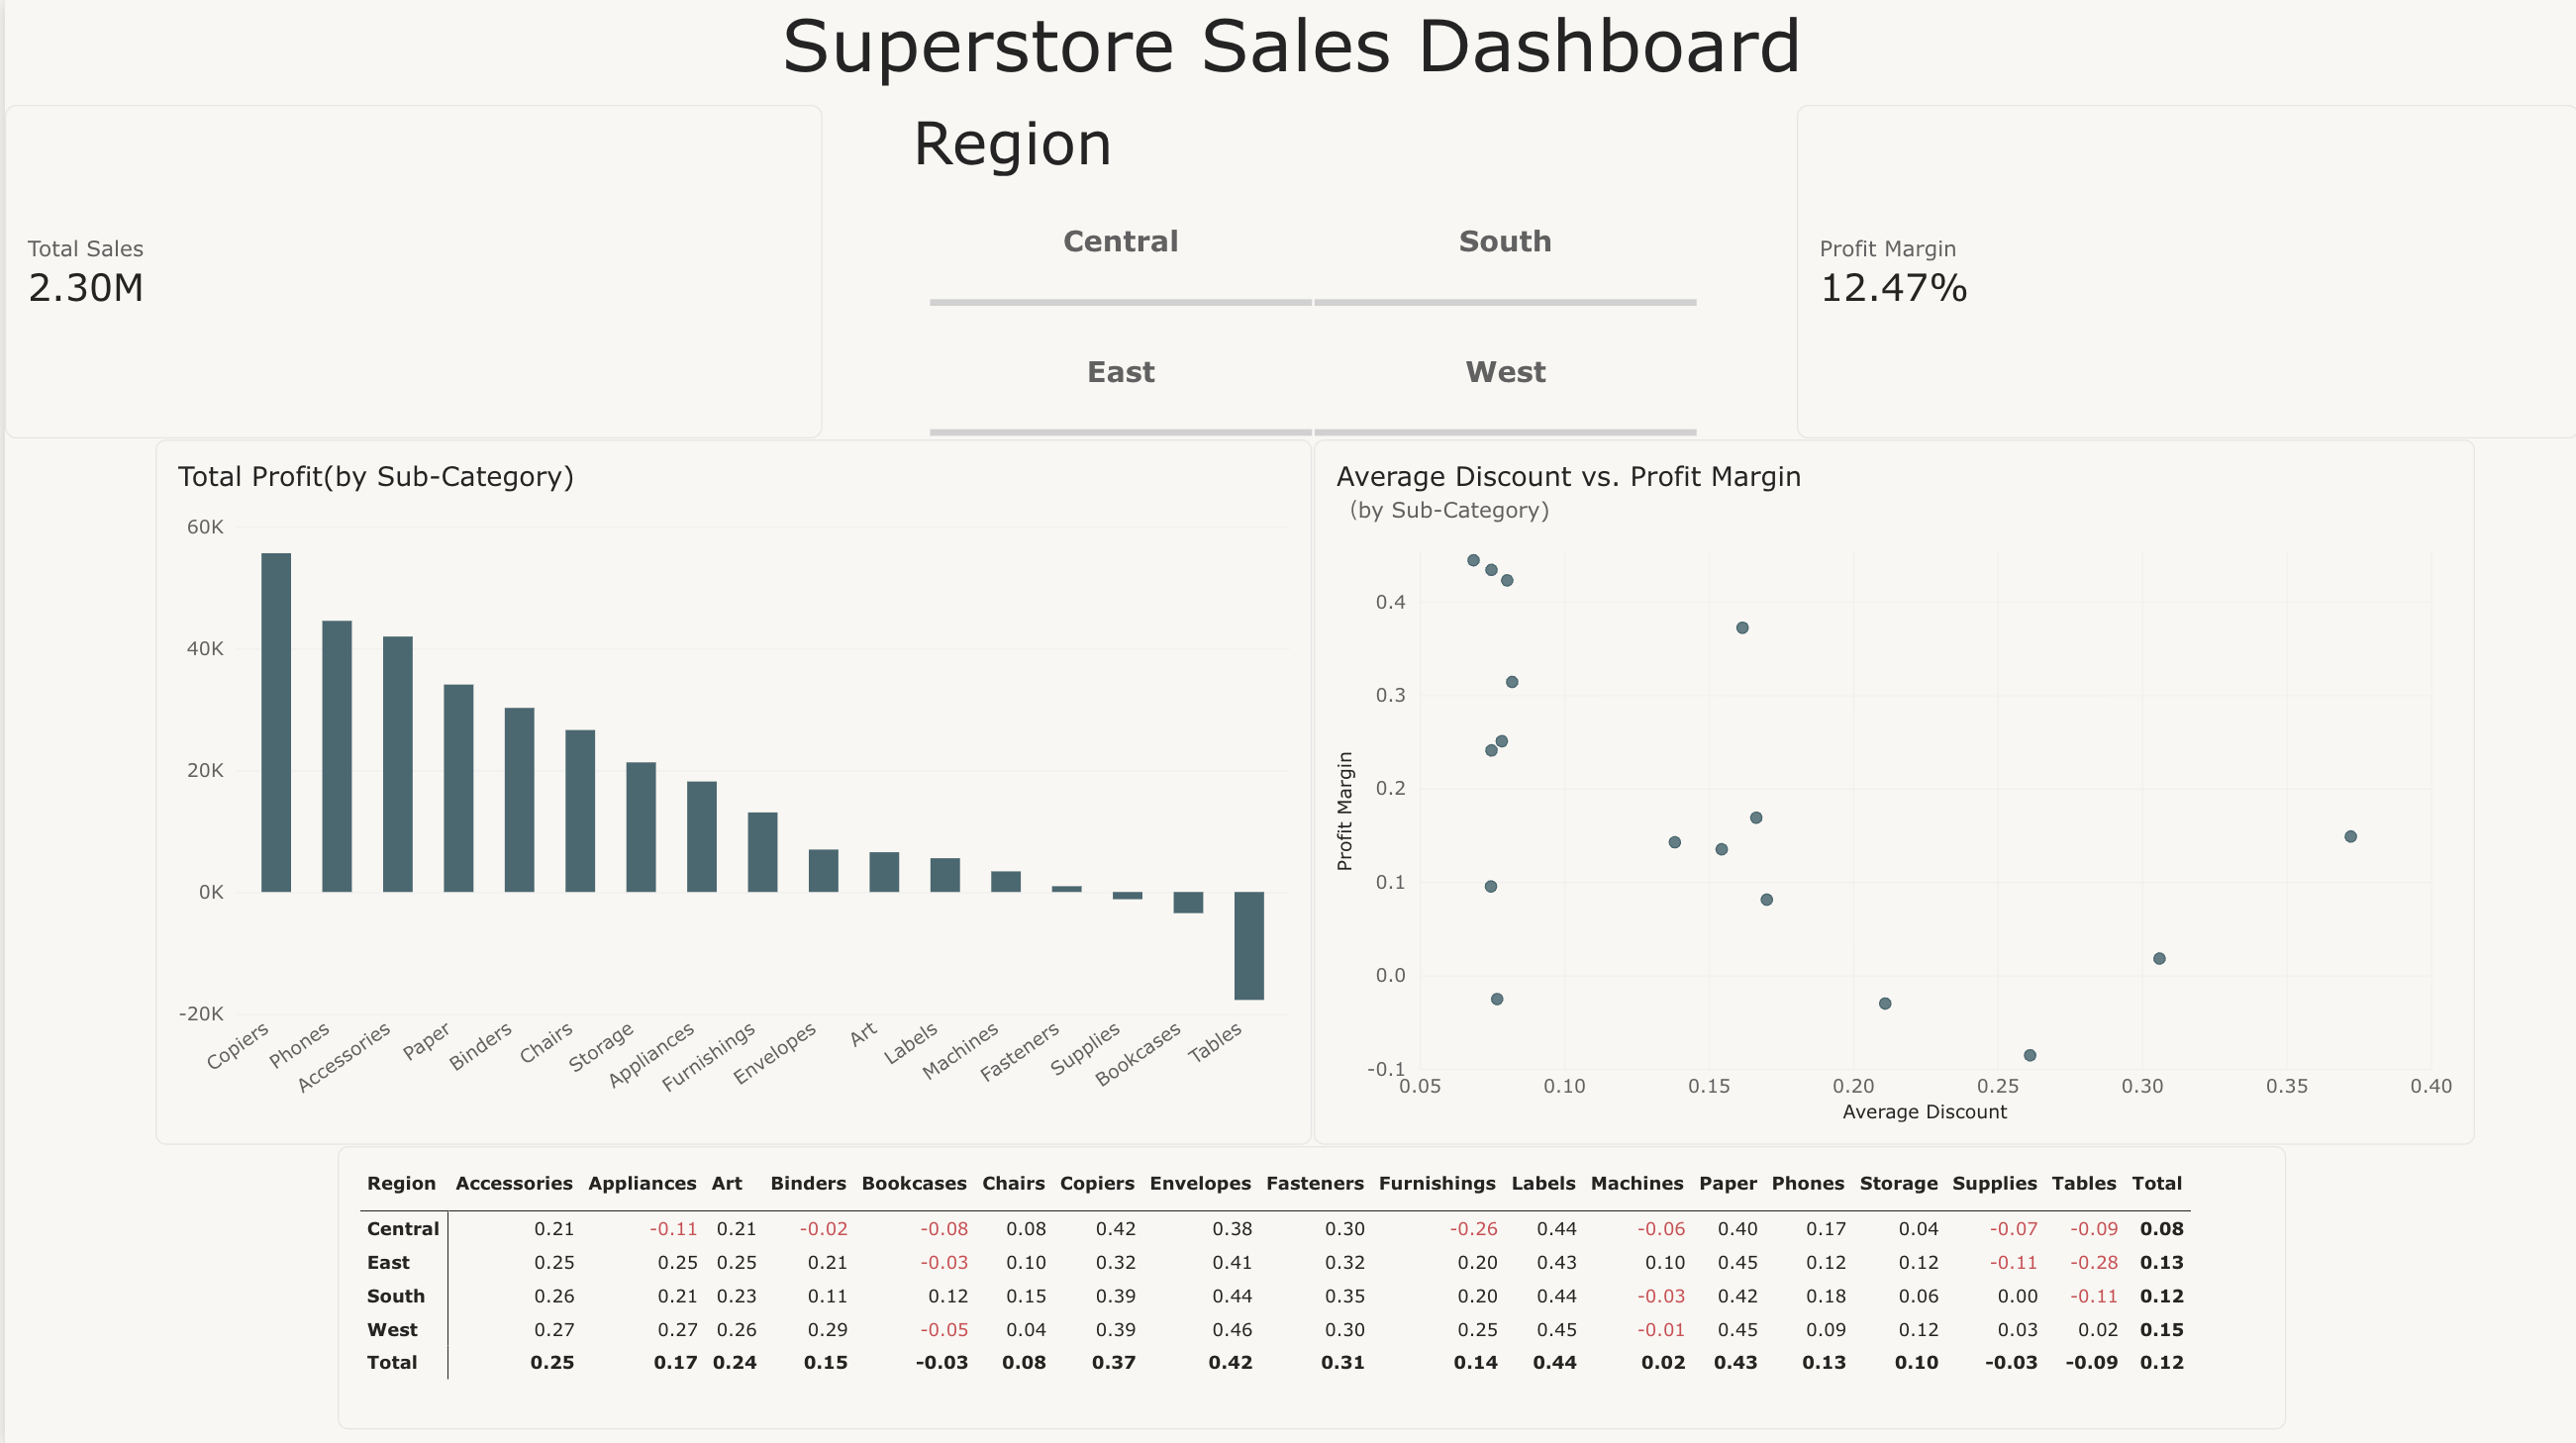

This screenshot's page, from the dashboard's own definition file:
{"tool":"powerbi","page":{"name":"第 2 页","canvas":[1920,1080],"ordinal":0},"visuals":[{"type":"clusteredColumnChart","title":"Total Profit(by Sub-Category)","fields":{"Category":["SampleSuperstore.Sub-Category"],"Y":["Sum(SampleSuperstore.Profit)"]},"box":[112.4,328,863,526.7],"z":0},{"type":"scatterChart","title":"Average Discount vs. Profit Margin","fields":{"Category":["SampleSuperstore.Sub-Category"],"X":["Avg(SampleSuperstore.Discount)"],"Y":["SampleSuperstore.Profit Margin"]},"box":[976.2,328,866.6,526.7],"z":1},{"type":"pivotTable","fields":{"Columns":["SampleSuperstore.Sub-Category"],"Rows":["SampleSuperstore.Region"],"Values":["SampleSuperstore.Profit Margin"]},"box":[248.2,855.4,1453.8,211.3],"z":2},{"type":"slicer","fields":{"Values":["SampleSuperstore.Region"]},"box":[669.8,78.5,612.1,249.1],"z":3},{"type":"cardVisual","fields":{"Data":["Sum(SampleSuperstore.Sales)"]},"box":[0,78.5,610,249],"z":4},{"type":"cardVisual","fields":{"Data":["SampleSuperstore.Profit Margin"]},"box":[1336.5,78.5,584,249],"z":5},{"type":"textbox","box":[423.4,0,1073.2,112.4],"z":6}]}

Visuals, with their boxes in screenshot pixels (x1, y1, x2, y2), scaled from the page's 1920x1080 canvas onto the 2576x1443 screenshot:
"Total Profit(by Sub-Category)" clusteredColumnChart: select_region(150, 438, 1309, 1142)
"Average Discount vs. Profit Margin" scatterChart: select_region(1310, 438, 2472, 1142)
pivotTable - SampleSuperstore.Sub-Category x SampleSuperstore.Region: select_region(333, 1143, 2284, 1425)
slicer - SampleSuperstore.Region: select_region(899, 105, 1720, 437)
cardVisual - Sum(SampleSuperstore.Sales): select_region(0, 105, 819, 437)
cardVisual - SampleSuperstore.Profit Margin: select_region(1793, 105, 2575, 437)
textbox: select_region(568, 0, 2008, 150)
